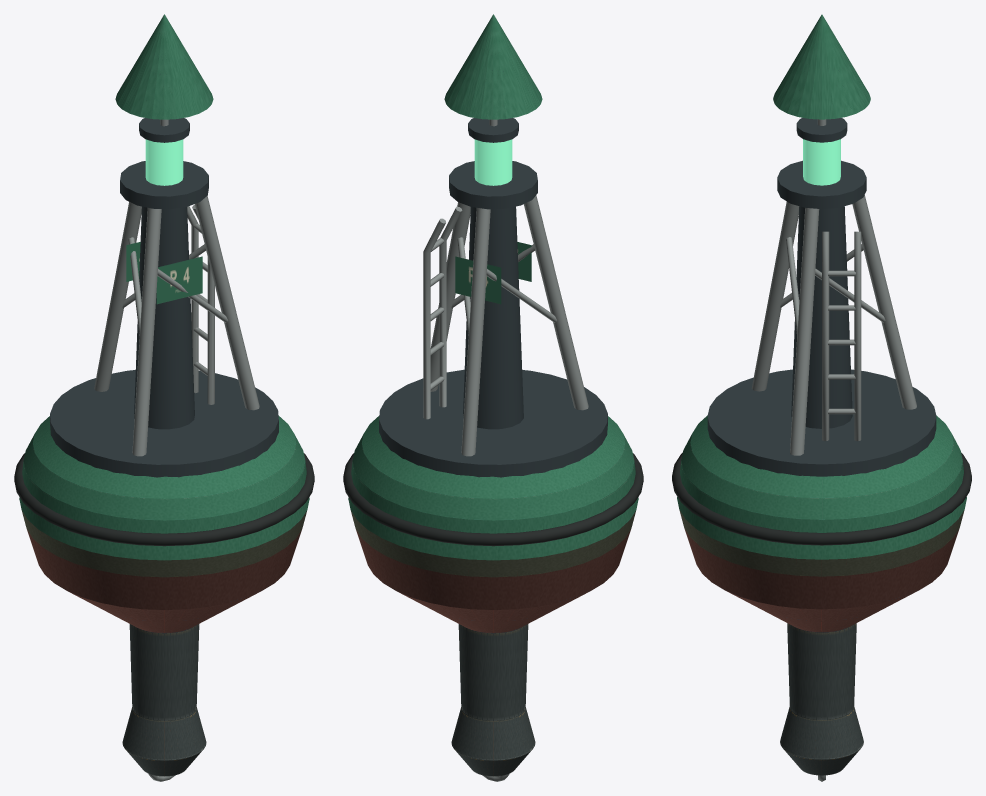
The model's file is buoy.fbx.
3 views of the same model, side by side, from view 1: azimuth 30°, elevation 25°; view 2: azimuth 150°, elevation 25°; view 3: azimuth 270°, elevation 25° (orthographic).
Parts seen in each view (by area): view 1: buoy_assembly; view 2: buoy_assembly; view 3: buoy_assembly.
Part boxes in pixels (<box>): buoy_assembly: <box>14,14,314,781</box>; buoy_assembly: <box>343,14,643,781</box>; buoy_assembly: <box>672,14,971,781</box>.
Size of the model in its own units: 2.14 by 6.04 by 2.14.
6 materials, 2 textured.
